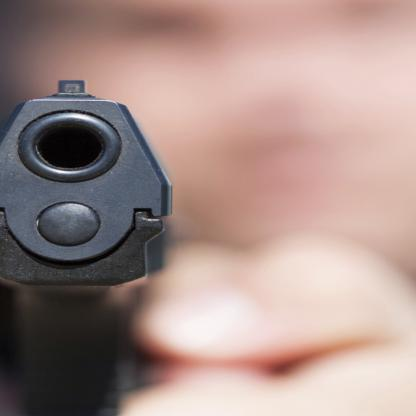gun: (0, 78, 185, 416)
